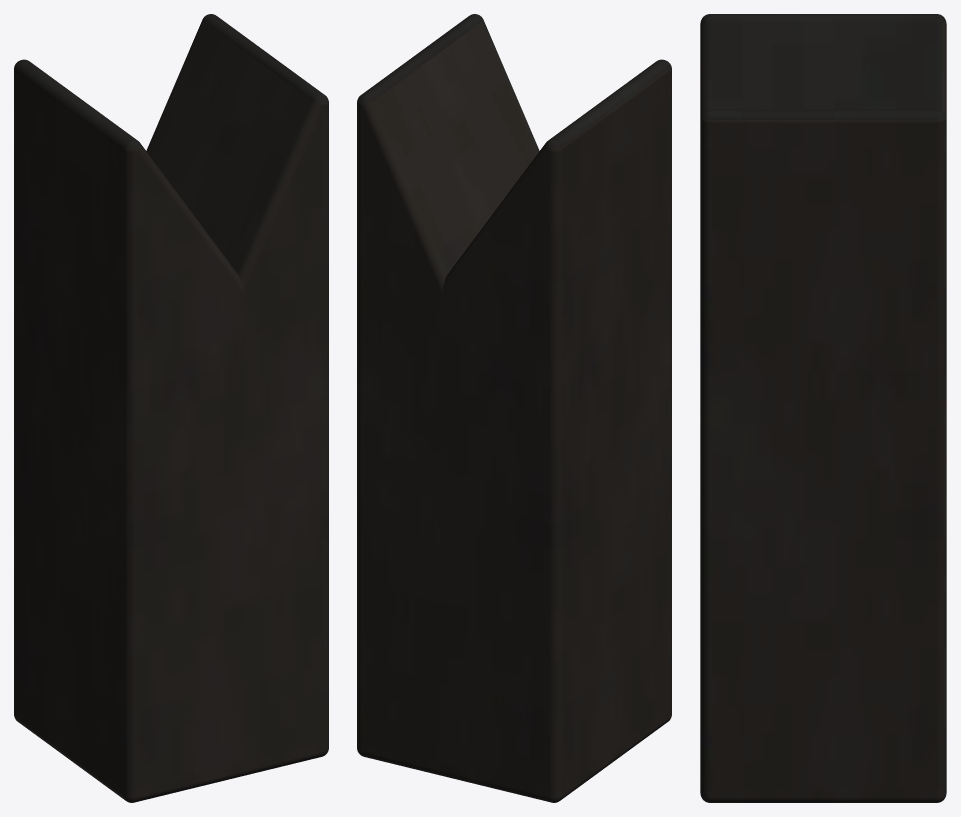
Rendered from Rez_Dama_cerny.glb.
3 renders of one model, left to right at view 1: azimuth 30°, elevation 25°; view 2: azimuth 150°, elevation 25°; view 3: azimuth 270°, elevation 25°, orthographic. The views are drawn at different scales.
Visible parts, largest first — view 1: Rez_Dama_cerny; view 2: Rez_Dama_cerny; view 3: Rez_Dama_cerny.
Part boxes in pixels (box(x1,y1,x2,y2)): Rez_Dama_cerny: box(14, 14, 328, 802); Rez_Dama_cerny: box(357, 14, 671, 802); Rez_Dama_cerny: box(700, 14, 946, 802).
Size of the model in its own units: 0.02 by 0.062 by 0.02.
Materials: 2 (2 with a texture image).
